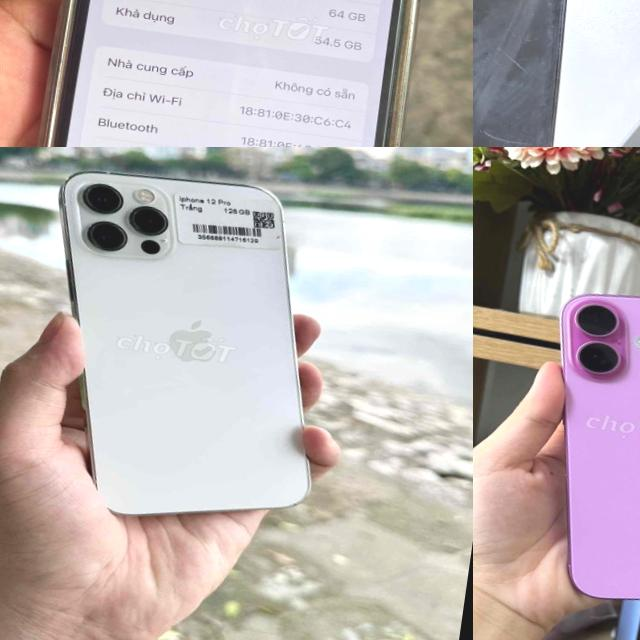gen_12_13: (0, 154, 354, 546), (473, 0, 615, 147)
gen_16: (514, 272, 640, 623)
gen_x_xs: (0, 0, 473, 147)
